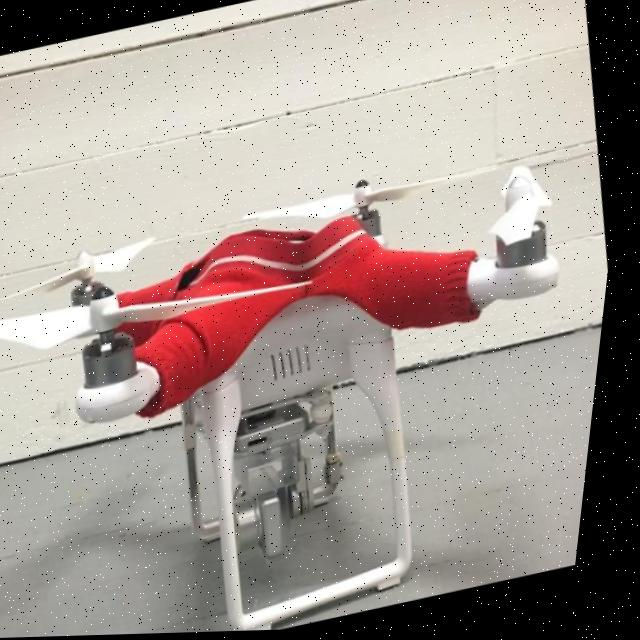drones: (0, 86, 631, 640)
